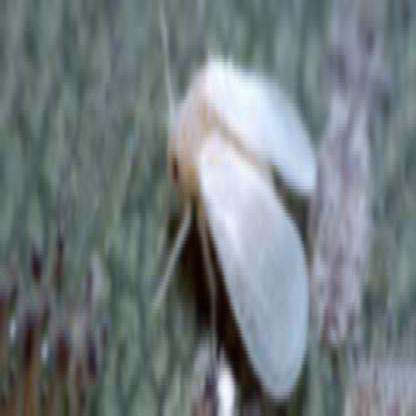whitefly: (167, 60, 319, 413)
